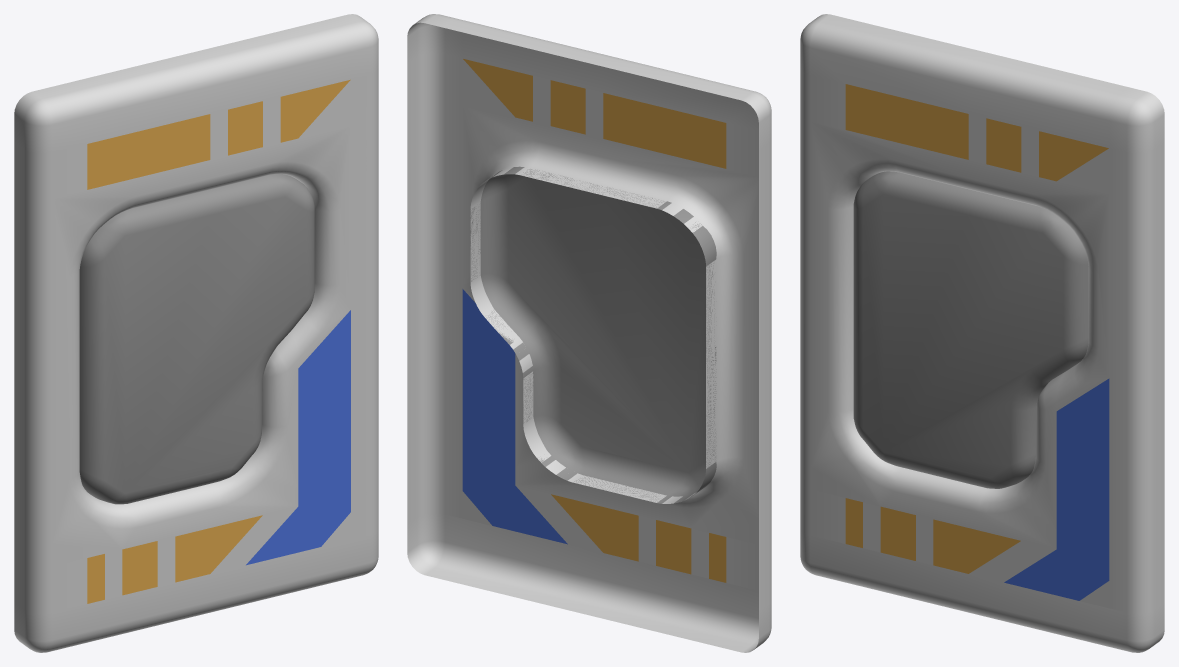
The model's file is lab_set_terminal_000.fbx.
3 views of the same model, side by side, from view 1: azimuth 30°, elevation 25°; view 2: azimuth 150°, elevation 25°; view 3: azimuth 330°, elevation 25° (orthographic).
Parts seen in each view (by area): view 1: terminal.000; view 2: terminal.000; view 3: terminal.000.
Boxes of the visible parts, x1=… form: terminal.000: x1=14, y1=14, x2=378, y2=652; terminal.000: x1=407, y1=14, x2=771, y2=652; terminal.000: x1=800, y1=14, x2=1164, y2=652.
Bounding box in the file's own units: 20 × 30 × 2.
